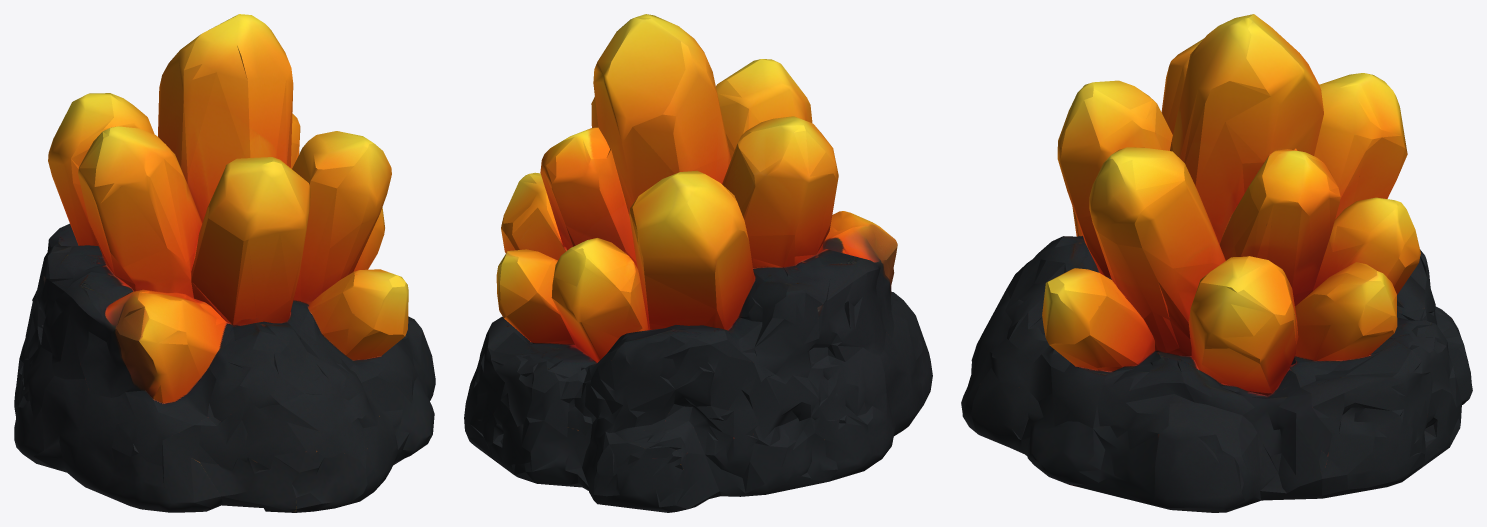
3 views of the same model, side by side, from view 1: azimuth 30°, elevation 25°; view 2: azimuth 150°, elevation 25°; view 3: azimuth 270°, elevation 25° (orthographic). The views are drawn at different scales.
Bounding box in the file's own units: 1.79 × 1.7 × 1.9.
1 material, 1 textured.
